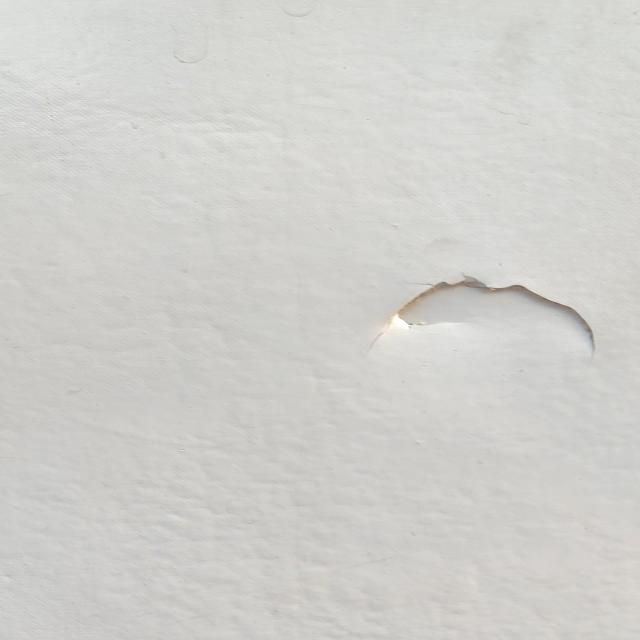Scratches: (366, 273, 615, 360)
